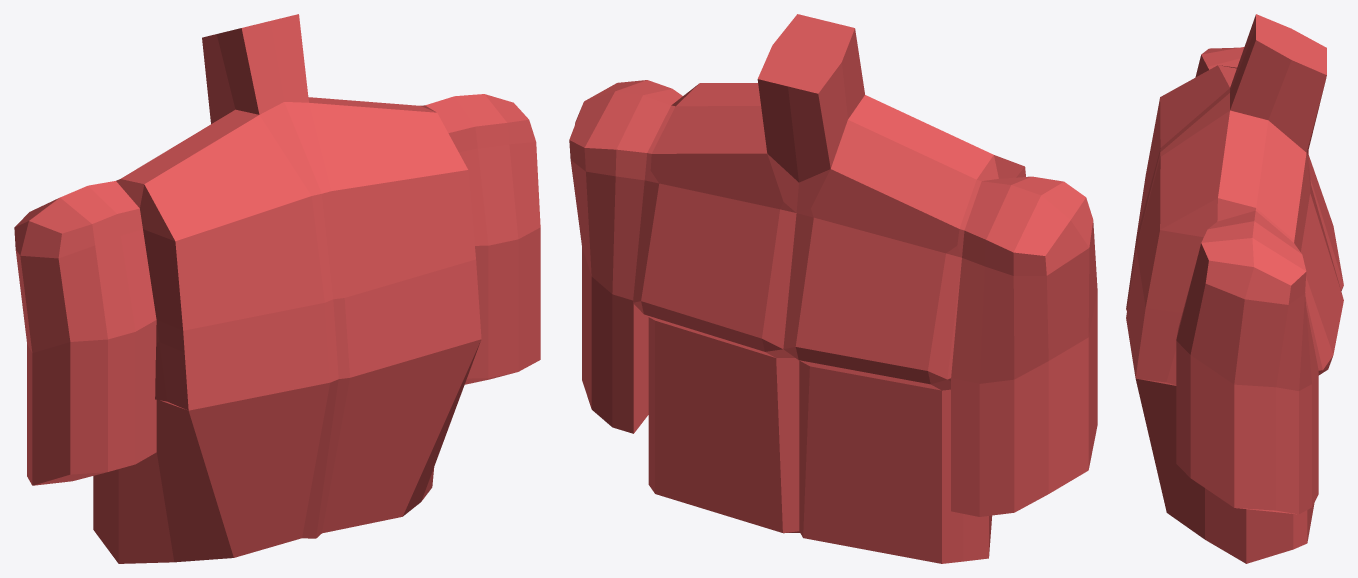
The model's file is Body.glb.
3 renders of one model, left to right at view 1: azimuth 30°, elevation 25°; view 2: azimuth 150°, elevation 25°; view 3: azimuth 270°, elevation 25°, orthographic. The views are drawn at different scales.
Parts seen in each view (by area): view 1: Body; view 2: Body; view 3: Body.
Boxes of the visible parts, <box> form: Body: <box>14,14,540,563</box>; Body: <box>569,14,1097,563</box>; Body: <box>1126,14,1343,563</box>.
Bounding box in the file's own units: 4.03 × 3.79 × 1.6.
